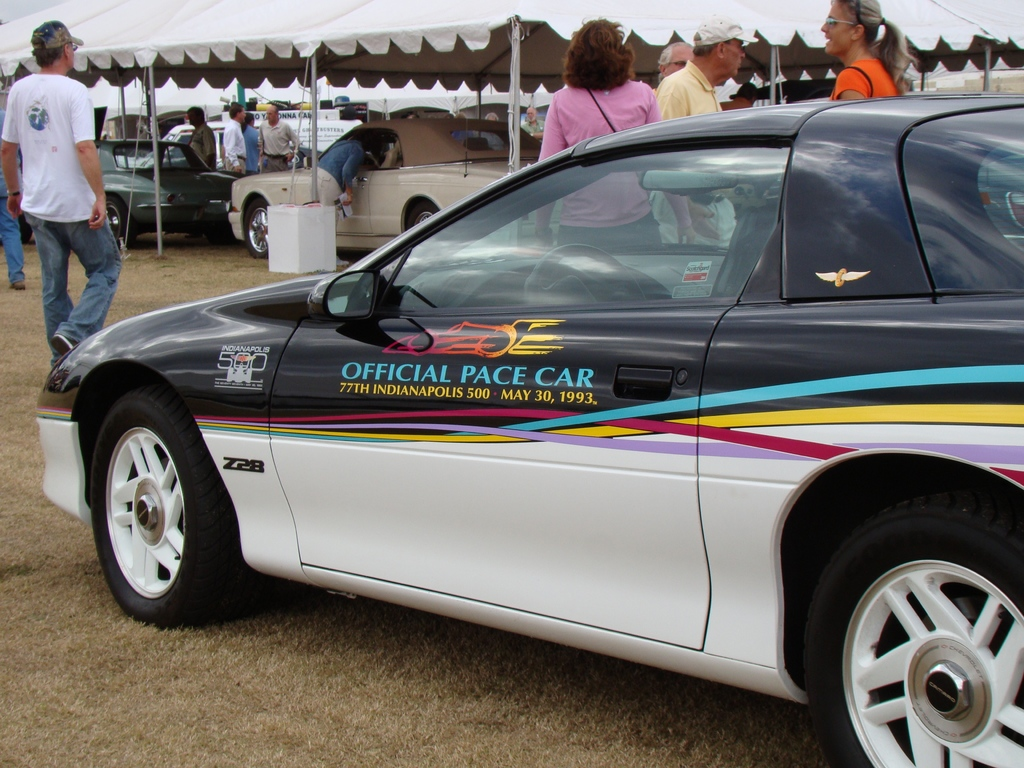Car: (30, 91, 1023, 767), (211, 112, 542, 262), (98, 138, 238, 248)
